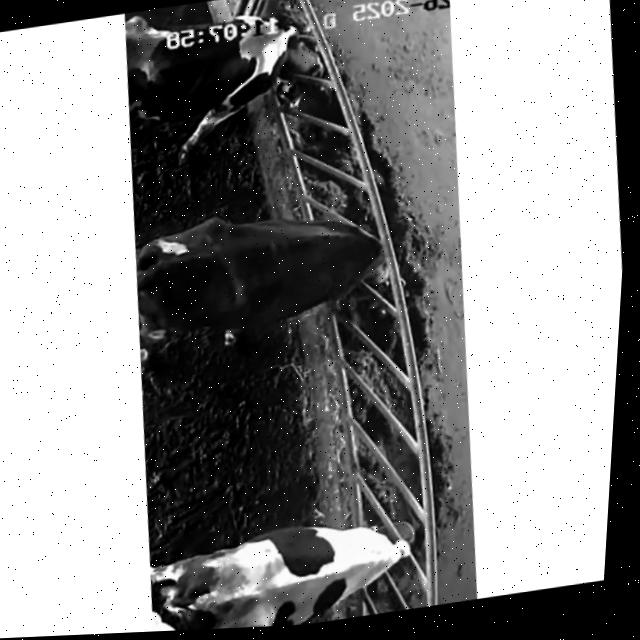eat: (239, 171, 452, 342), (270, 459, 482, 626), (189, 0, 396, 129)
